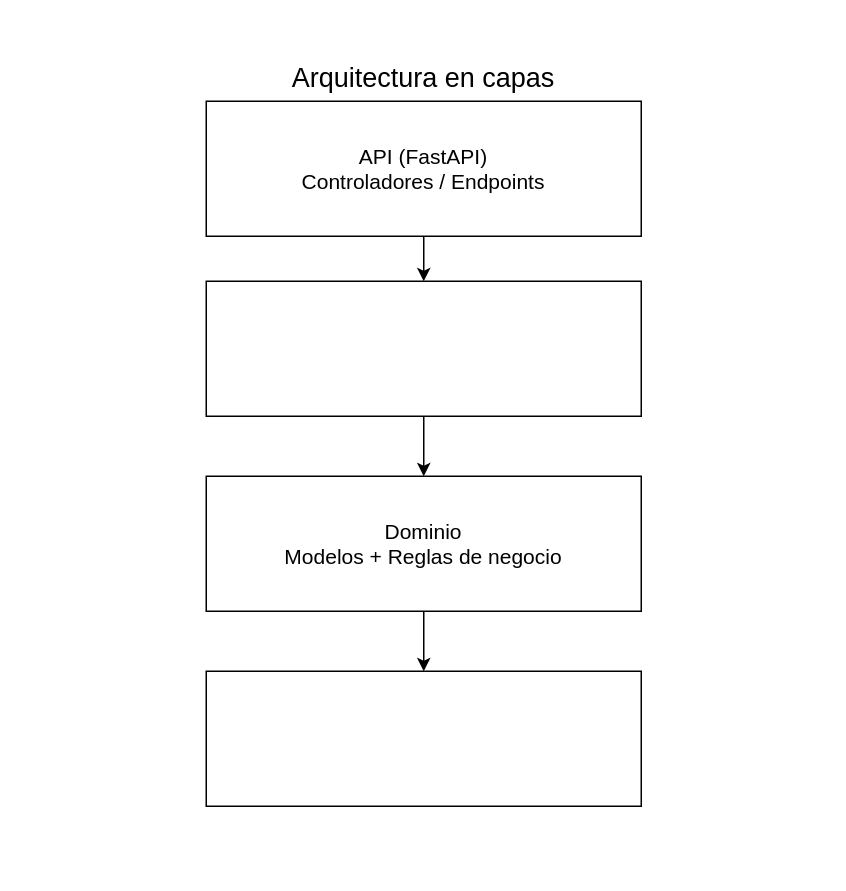
This 846x891 diagram has some shape labels left out. The centre of each missing label's shape, as x and y in pixels:
"Aplicación Casos de uso / Servicios" goes at pixel 423 348.
"Infraestructura Repositorios / Persistencia" goes at pixel 423 738.
